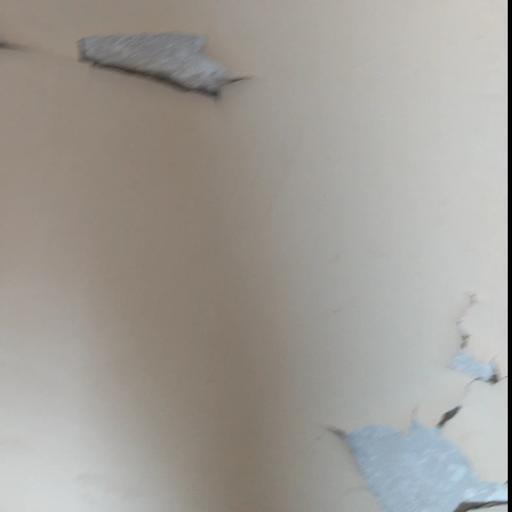peeling: (310, 391, 512, 512), (55, 13, 269, 112), (430, 286, 512, 395)
